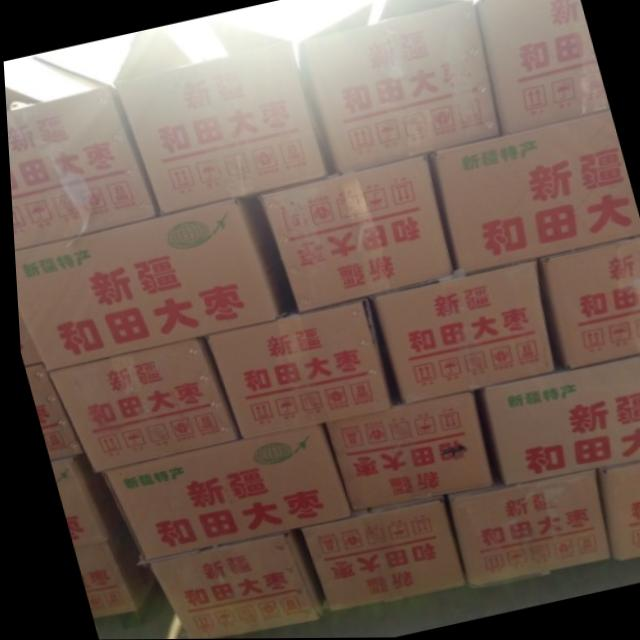box: (12, 198, 279, 370), (112, 26, 327, 215), (427, 109, 639, 276), (298, 0, 500, 175), (97, 425, 343, 562), (255, 153, 450, 312), (4, 57, 159, 250), (200, 298, 386, 439), (366, 258, 549, 401), (42, 338, 234, 474), (478, 354, 640, 485), (322, 391, 486, 511), (442, 470, 605, 588), (142, 531, 315, 639), (295, 497, 457, 611), (475, 0, 608, 136), (534, 235, 640, 368), (66, 520, 147, 618), (45, 452, 118, 546), (20, 363, 76, 460), (591, 460, 640, 560), (14, 311, 39, 366)
